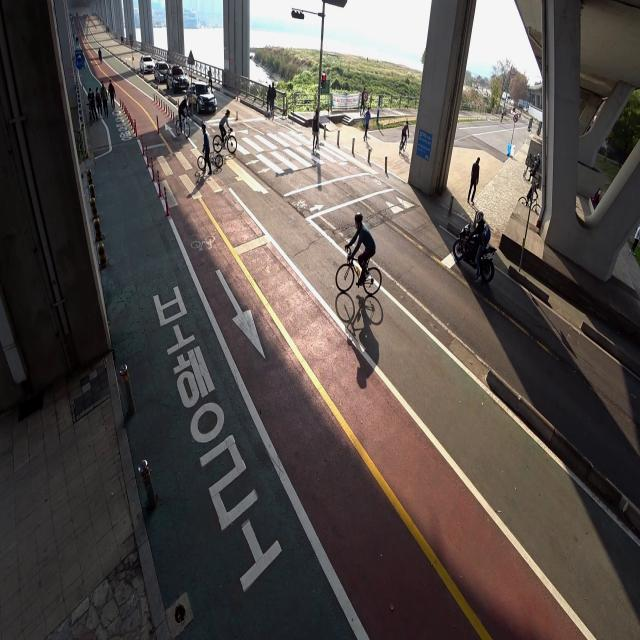Car: (186, 75, 218, 122), (132, 45, 156, 78), (165, 59, 187, 93), (152, 52, 168, 86)
Motorcycle: (452, 210, 497, 284)
